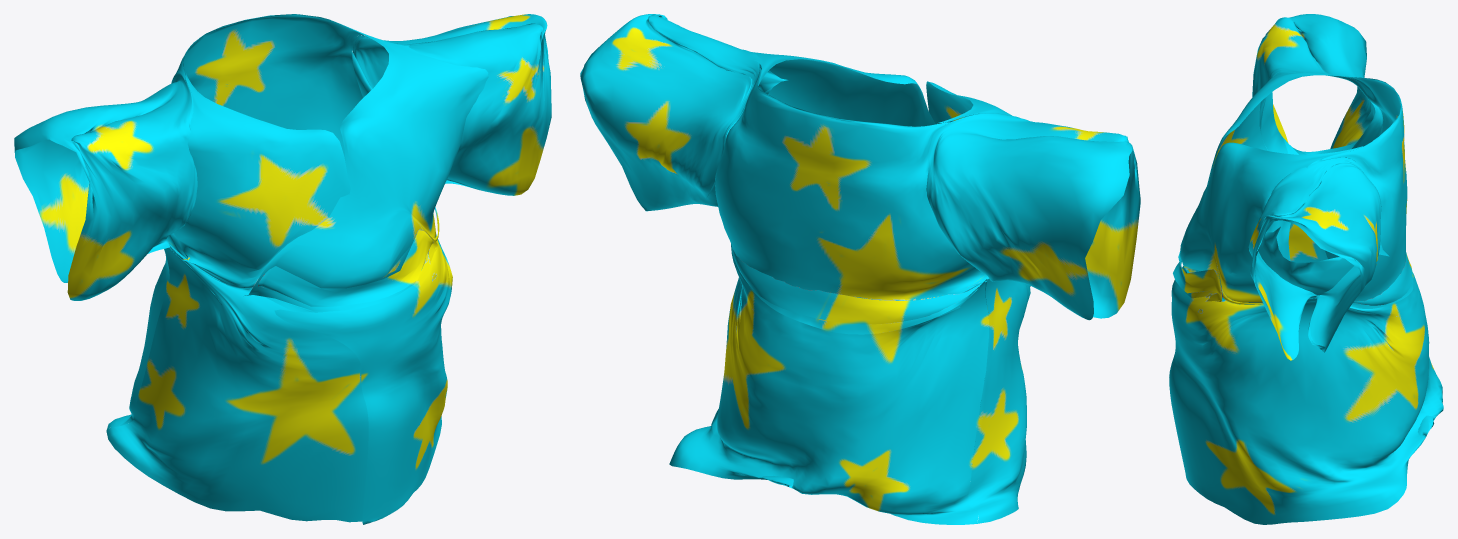
Rendered from Wizard-Cloak-Teal.glb.
3 renders of one model, left to right at view 1: azimuth 30°, elevation 25°; view 2: azimuth 150°, elevation 25°; view 3: azimuth 270°, elevation 25°, orthographic. The views are drawn at different scales.
Visible parts, largest first — view 1: Wizard-Cloak-Teal; view 2: Wizard-Cloak-Teal; view 3: Wizard-Cloak-Teal.
Part boxes in pixels (bbox=[...]): Wizard-Cloak-Teal: bbox=[14, 14, 551, 524]; Wizard-Cloak-Teal: bbox=[580, 14, 1140, 524]; Wizard-Cloak-Teal: bbox=[1169, 14, 1443, 524].
Size of the model in its own units: 0.6682 by 0.5166 by 0.3434.
Materials: 2 (2 with a texture image).
